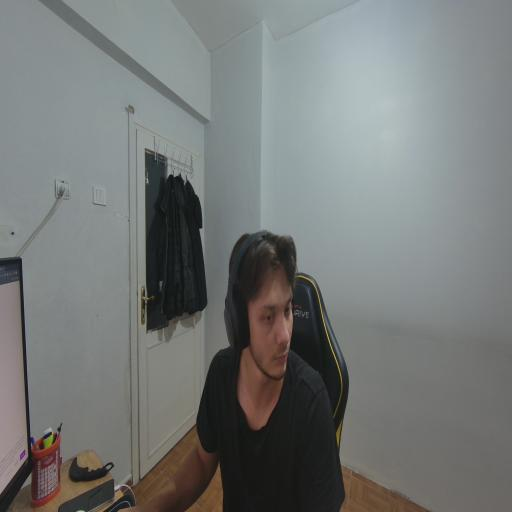cuma-face-v2: (220, 218, 300, 373)
